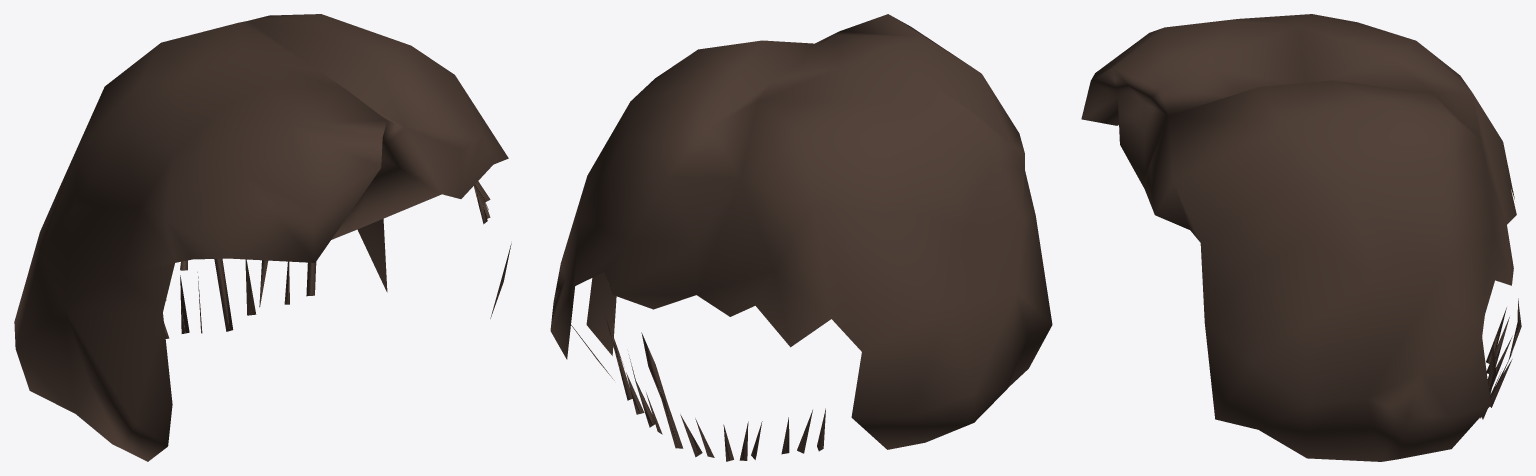
Rendered from bob.glb.
3 views of the same model, side by side, from view 1: azimuth 30°, elevation 25°; view 2: azimuth 150°, elevation 25°; view 3: azimuth 270°, elevation 25° (orthographic). The views are drawn at different scales.
Parts seen in each view (by area): view 1: Hair, HairPulledRootStrands; view 2: Hair, HairPulledRootStrands; view 3: Hair, HairPulledRootStrands.
Boxes of the visible parts, bbox=[...] form: Hair: bbox=[14, 14, 511, 461]; HairPulledRootStrands: bbox=[164, 181, 490, 338]; Hair: bbox=[550, 14, 1052, 449]; HairPulledRootStrands: bbox=[605, 283, 825, 461]; Hair: bbox=[1081, 14, 1516, 461]; HairPulledRootStrands: bbox=[1479, 298, 1521, 419].
Bounding box in the file's own units: 0.5212 × 0.3944 × 0.444.
